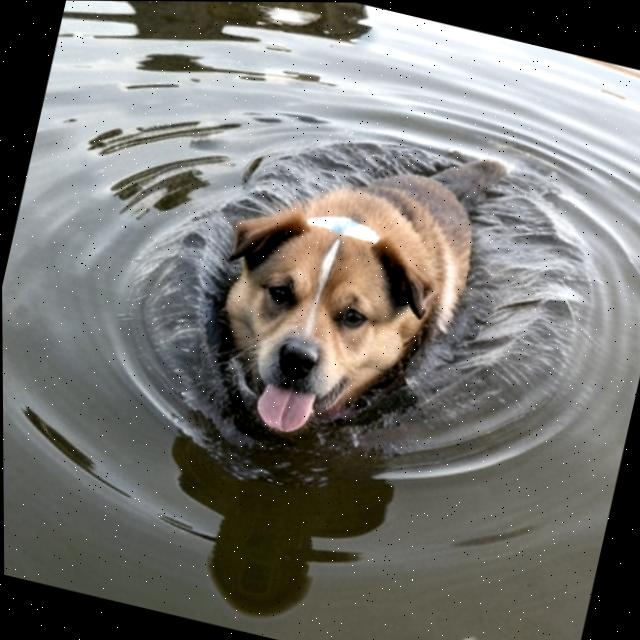dog: (115, 73, 550, 511)
